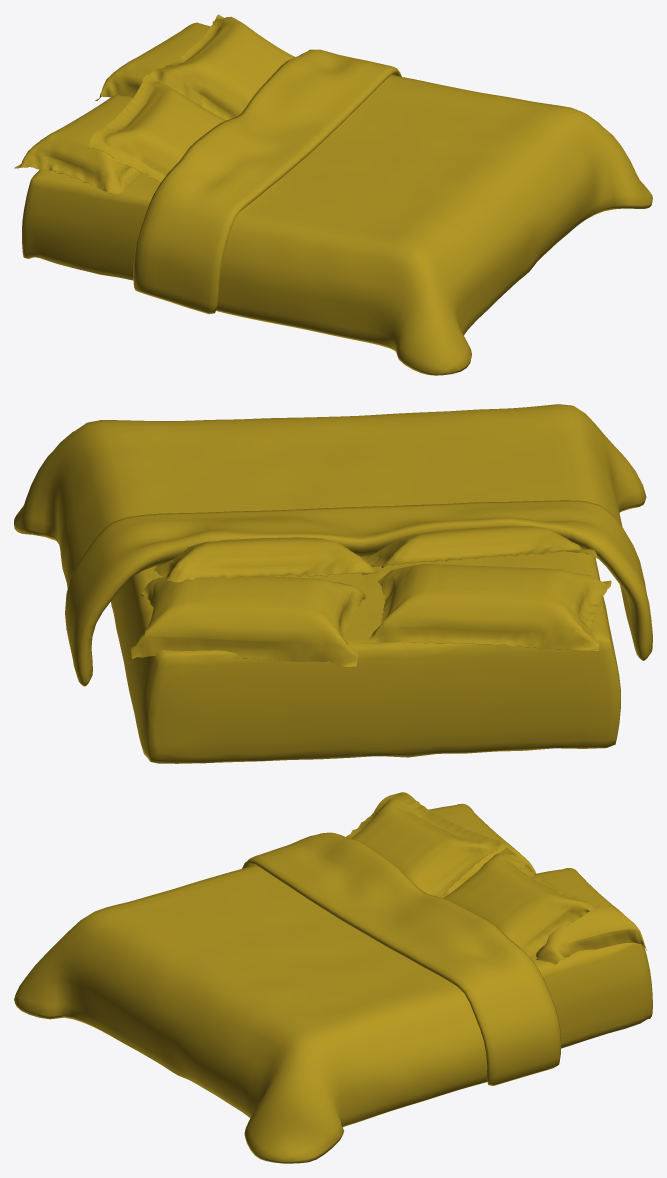
The model's file is White_QueenBed.obj.
The picture shows the model from 3 angles, top to bottom: view 1: azimuth 30°, elevation 25°; view 2: azimuth 150°, elevation 25°; view 3: azimuth 270°, elevation 25°; orthographic projection. The views are drawn at different scales.
Parts seen in each view (by area): view 1: goldenmouse_bed; view 2: goldenmouse_bed; view 3: goldenmouse_bed.
Part boxes in pixels (x1=…): goldenmouse_bed: x1=14, y1=14, x2=652, y2=375; goldenmouse_bed: x1=14, y1=404, x2=652, y2=763; goldenmouse_bed: x1=14, y1=792, x2=652, y2=1163.
Bounding box in the file's own units: 2526 × 615 × 2591.
